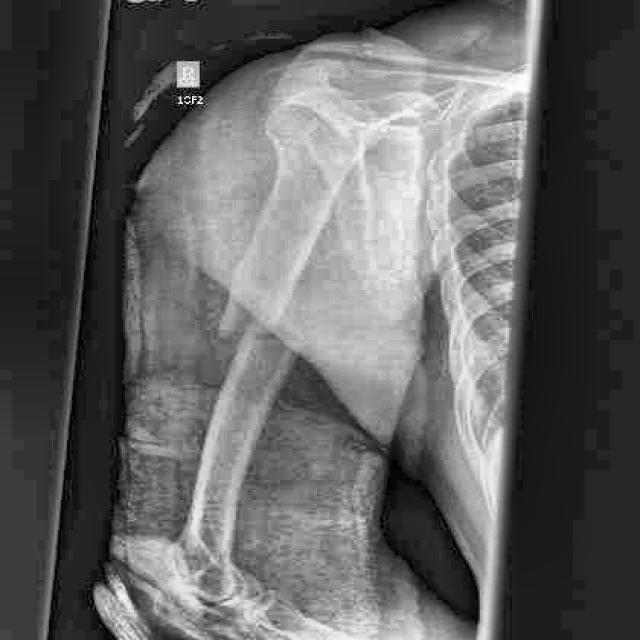humerus: (164, 247, 354, 479)
